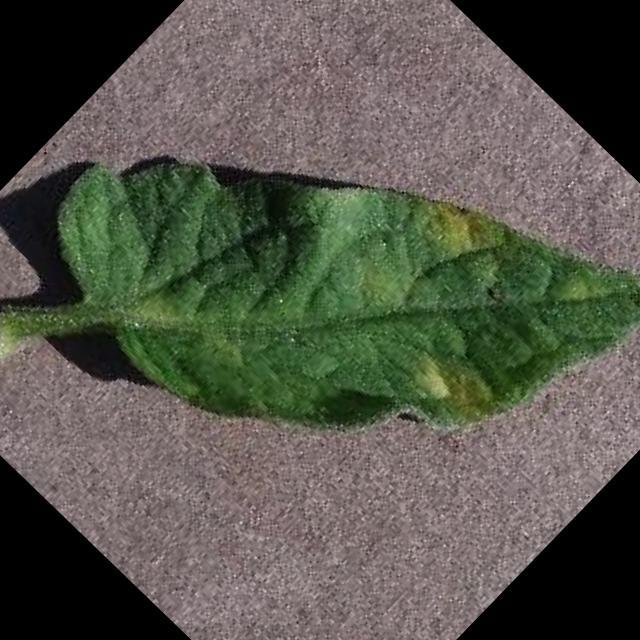Tomato mold leaf: (9, 0, 640, 604)
